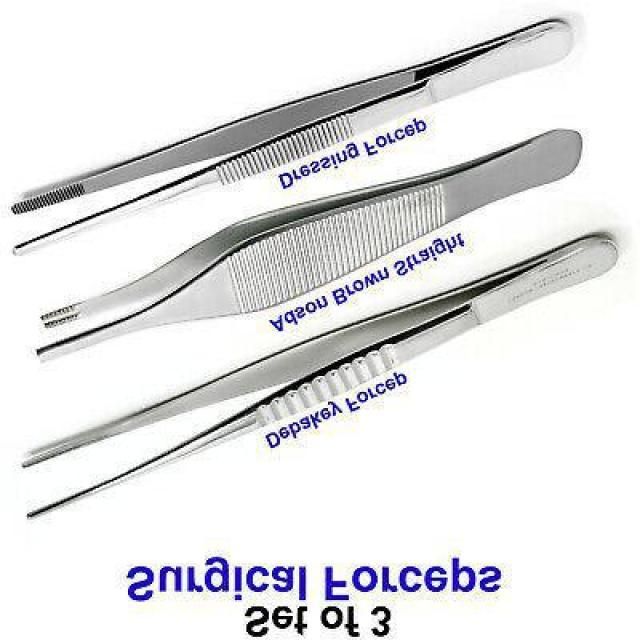Forceps: (19, 229, 621, 528), (10, 16, 578, 259), (35, 125, 586, 368)
